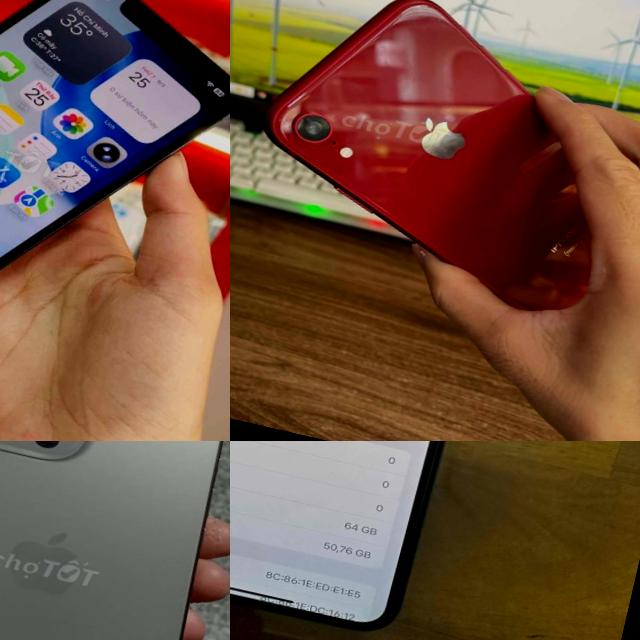gen_11: (230, 441, 527, 640)
gen_12_13: (0, 0, 230, 373)
gen_15: (0, 441, 230, 640)
gen_x_xs: (265, 0, 589, 309)
